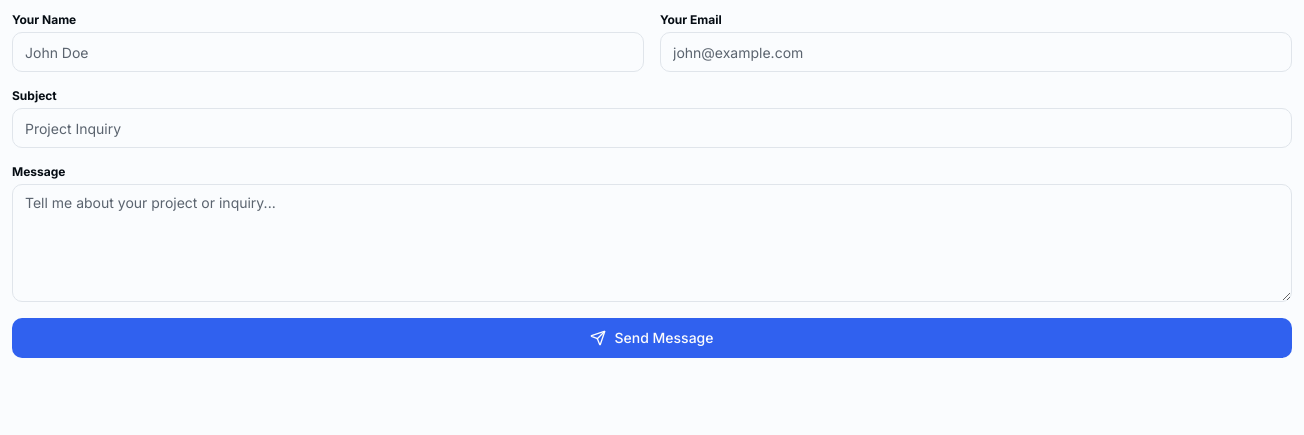
Test: ContactForm › displays validation errors for empty fields
Click the button "Send Message": (652, 338) [12,318,1292,358]
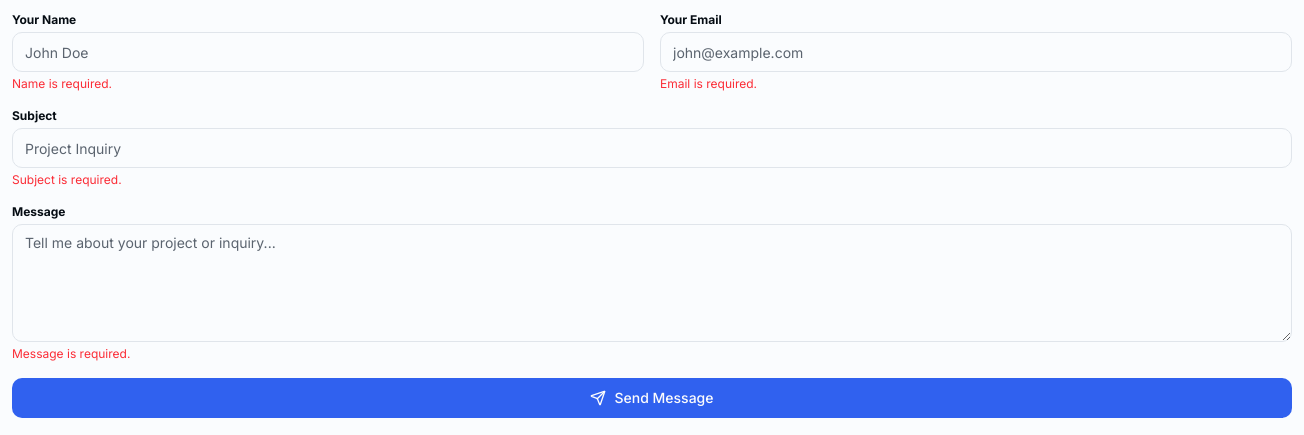
Expected: the text "Name is required." is shown, [12,76,112,91]
Expected: the text "Email is required." is shown, [660,76,757,91]
Expected: the text "Subject is required." is shown, [12,172,122,187]
